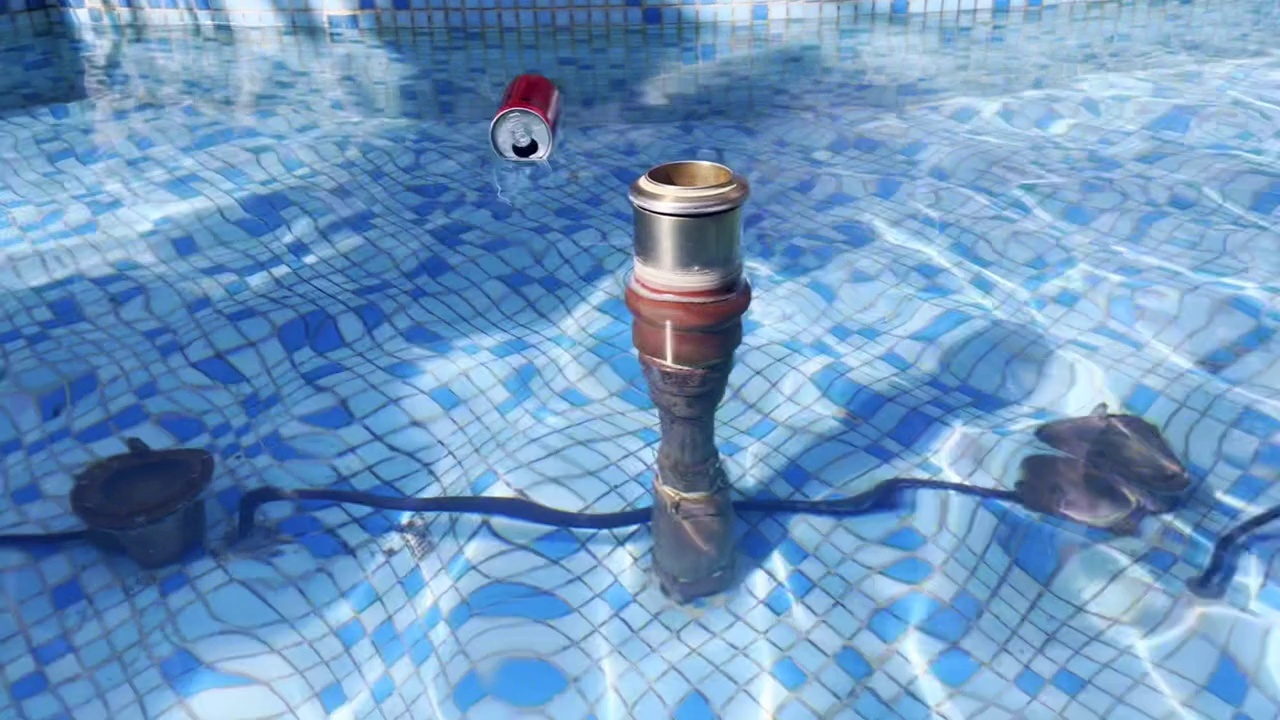debris: (491, 63, 563, 165)
